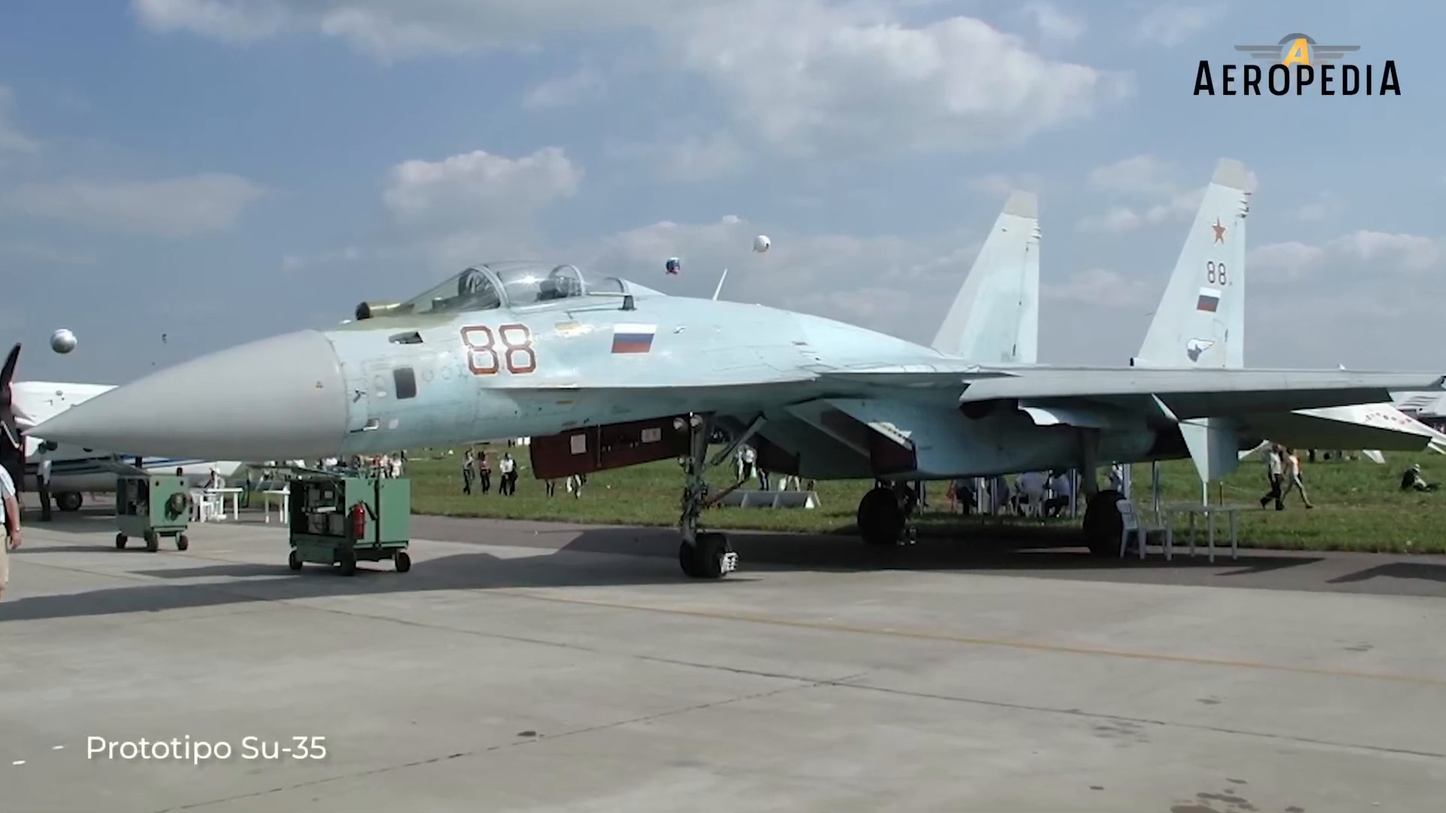Su35: (22, 156, 1443, 579)
